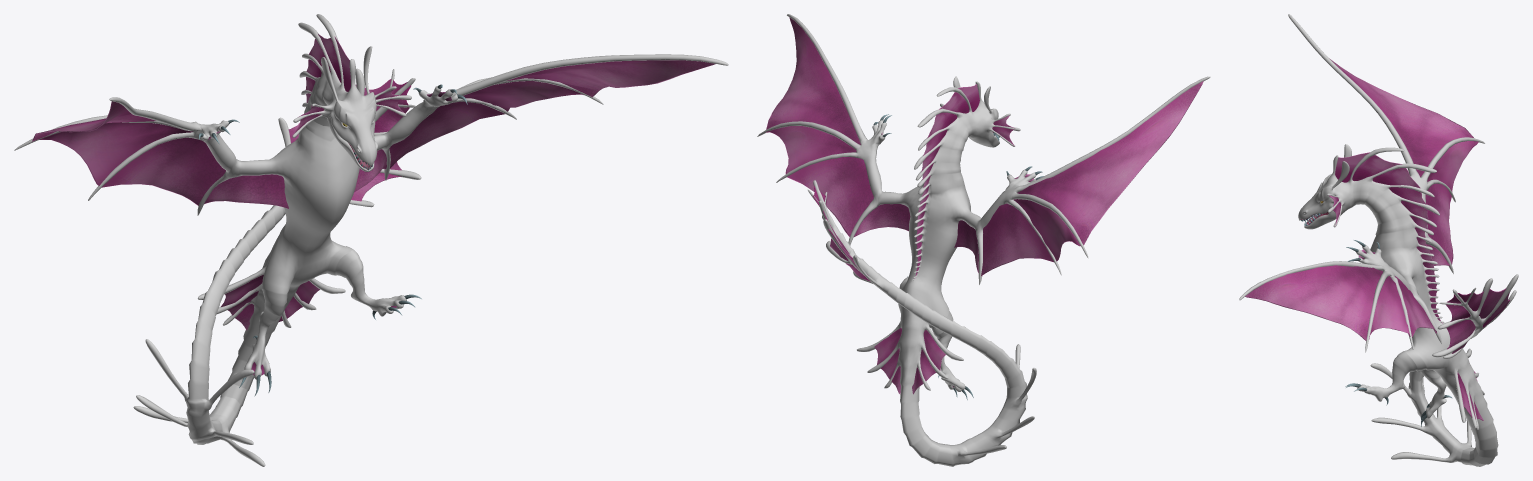
File: DragonTale.gltf
The picture shows the model from 3 angles, left to right: view 1: azimuth 30°, elevation 25°; view 2: azimuth 150°, elevation 25°; view 3: azimuth 270°, elevation 25°; orthographic projection. The views are drawn at different scales.
Visible parts, largest first — view 1: sea_serpent_body.3, sea_serpent_wings.2; view 2: sea_serpent_wings.2, sea_serpent_body.3; view 3: sea_serpent_body.3, sea_serpent_wings.2.
Part boxes in pixels (left/top/right/bottom): sea_serpent_body.3: left=14, top=14, right=728, bottom=466; sea_serpent_wings.2: left=32, top=34, right=715, bottom=396; sea_serpent_wings.2: left=766, top=17, right=1203, bottom=400; sea_serpent_body.3: left=757, top=14, right=1210, bottom=466; sea_serpent_body.3: left=1239, top=14, right=1518, bottom=466; sea_serpent_wings.2: left=1245, top=58, right=1510, bottom=426.
Bounding box in the file's own units: 15.61 × 12.14 × 8.36.
